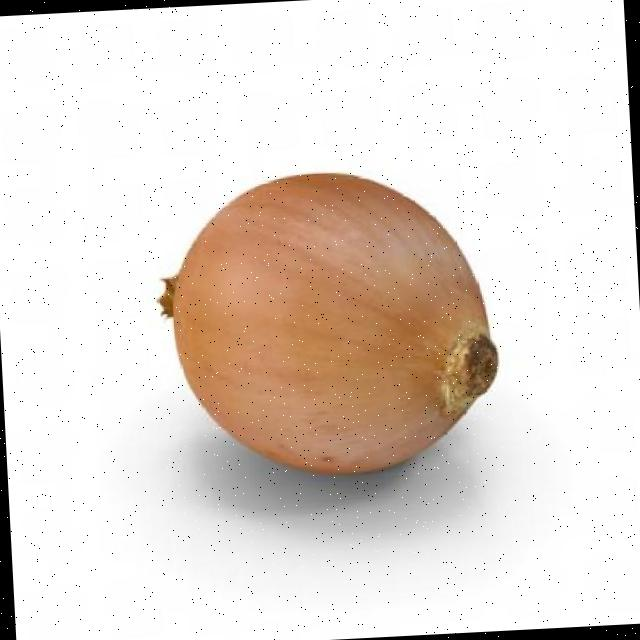Onion: (159, 173, 499, 475)
